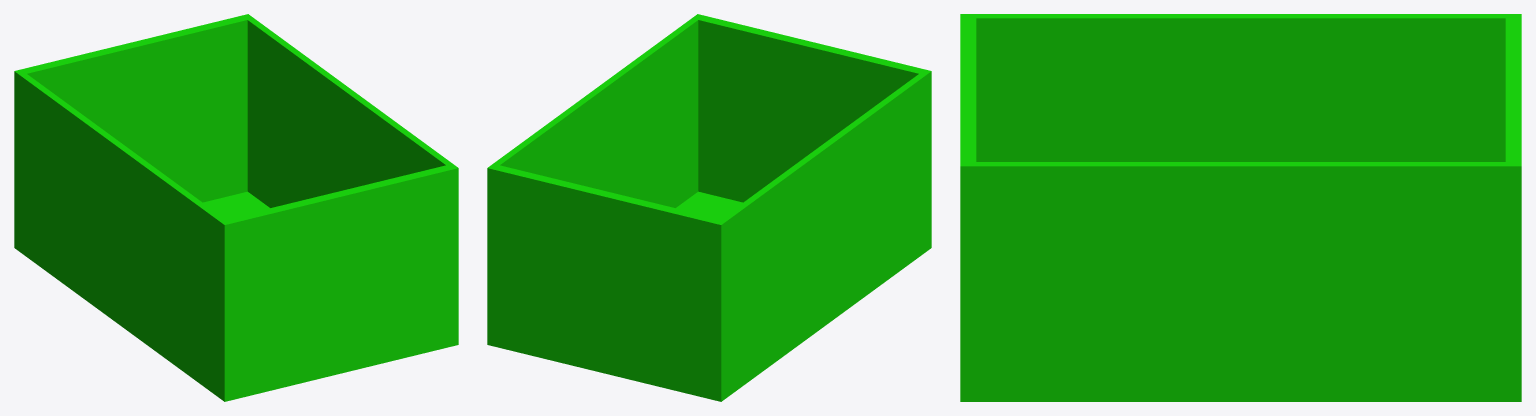
Rendered from Bin.fbx.
The picture shows the model from 3 angles, left to right: view 1: azimuth 30°, elevation 25°; view 2: azimuth 150°, elevation 25°; view 3: azimuth 270°, elevation 25°; orthographic projection. The views are drawn at different scales.
Visible parts, largest first — view 1: Cube; view 2: Cube; view 3: Cube.
Boxes of the visible parts, x1,y1,x2,y2 form: Cube: (14,14,458,401); Cube: (487,14,931,401); Cube: (960,14,1521,401).
Size of the model in its own units: 277 by 200 by 432.
